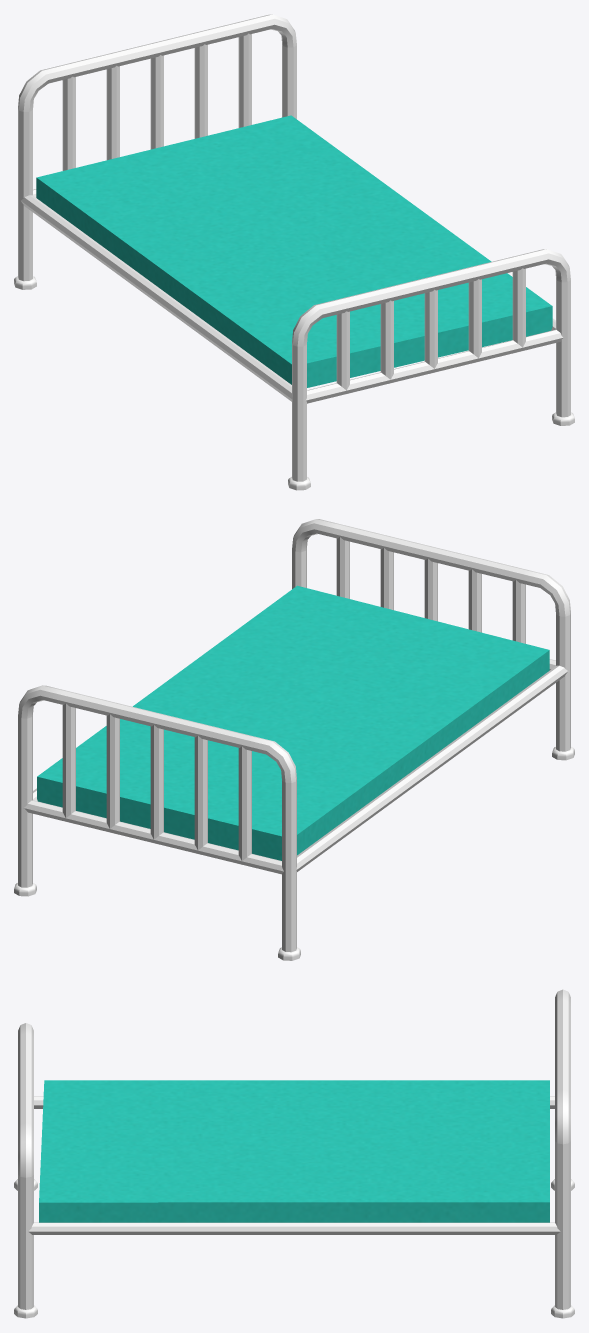
File: med_bed3.fbx
3 views of the same model, one above another, from view 1: azimuth 30°, elevation 25°; view 2: azimuth 150°, elevation 25°; view 3: azimuth 270°, elevation 25° (orthographic). The views are drawn at different scales.
Parts seen in each view (by area): view 1: med_bed3; view 2: med_bed3; view 3: med_bed3.
Part boxes in pixels (x1,y1,x2,y2): med_bed3: (14,14,574,490); med_bed3: (14,519,574,960); med_bed3: (14,989,574,1318).
Size of the model in its own units: 130 by 91.96 by 227.
Materials: 1 (1 with a texture image).
